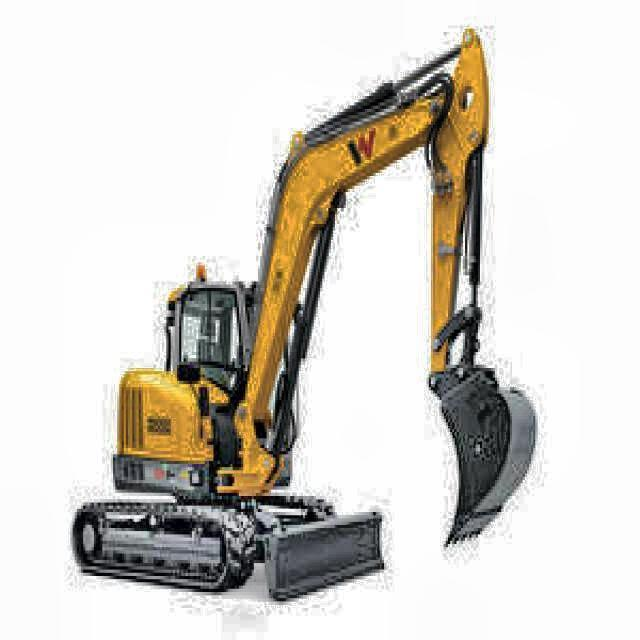excavator: (71, 29, 540, 608)
